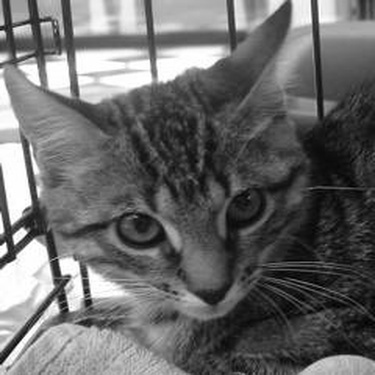cat: (5, 1, 370, 369)
